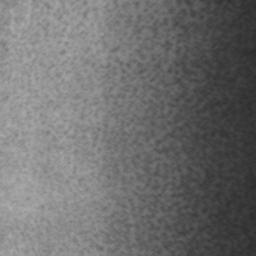Pitted surface: (0, 0, 230, 256)
